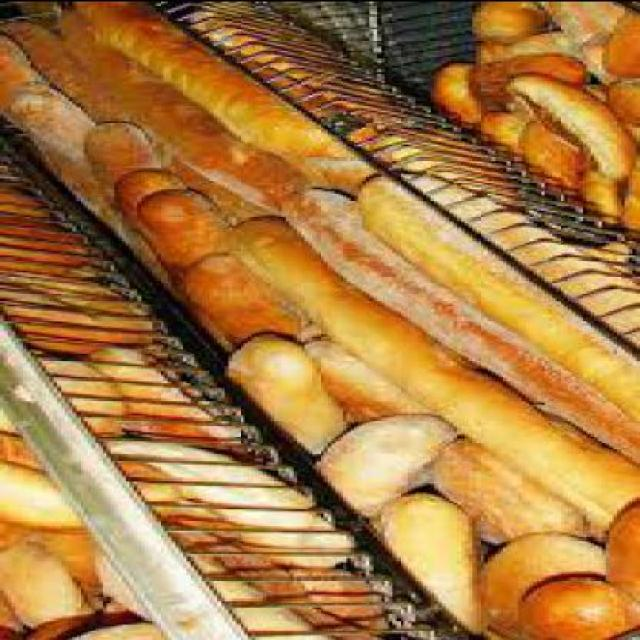BIODEGRADABLE: (225, 218, 637, 532), (278, 188, 636, 469), (355, 173, 636, 427), (69, 2, 373, 196), (57, 2, 300, 218), (0, 17, 260, 218), (98, 435, 351, 570), (168, 532, 390, 638), (90, 546, 324, 639), (426, 435, 583, 543), (373, 492, 481, 634), (499, 75, 636, 183), (308, 414, 450, 518), (475, 532, 608, 638), (88, 350, 229, 448), (222, 335, 336, 456), (175, 255, 320, 348), (300, 338, 438, 433), (0, 284, 137, 354), (3, 94, 95, 192), (133, 192, 236, 279), (533, 2, 636, 88), (0, 361, 115, 435), (464, 55, 594, 114), (514, 576, 637, 638), (0, 542, 88, 626), (80, 122, 157, 205), (0, 461, 77, 533), (289, 569, 377, 628), (64, 620, 333, 638), (0, 224, 85, 278), (111, 172, 178, 237), (515, 118, 579, 185), (602, 500, 636, 626), (426, 61, 488, 128), (466, 2, 548, 48), (575, 168, 636, 224), (472, 32, 571, 66), (598, 11, 636, 78), (473, 113, 525, 156), (0, 32, 28, 111), (602, 75, 636, 130), (0, 195, 42, 220)
